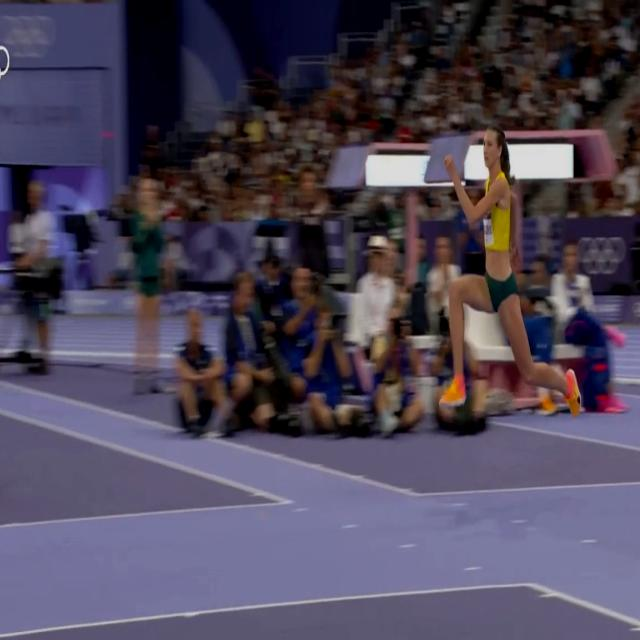run: (438, 122, 584, 420)
